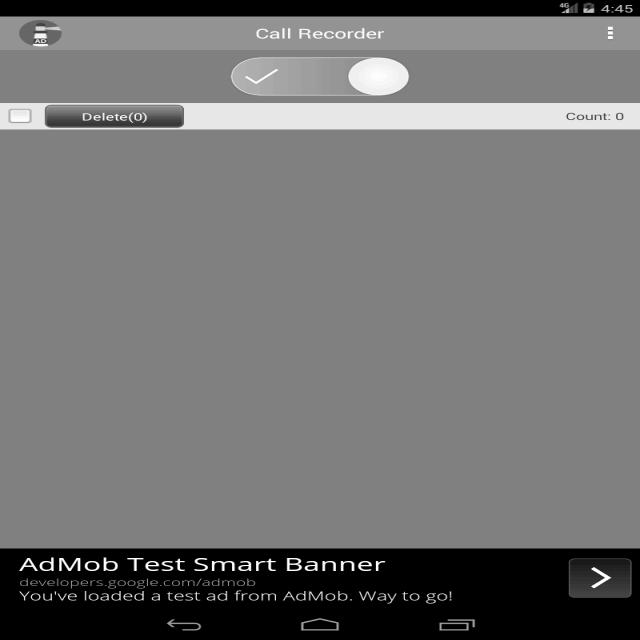Button: (42, 100, 188, 132)
CheckBox: (2, 104, 36, 126)
ImageButton: (592, 22, 628, 44)
ImageView: (14, 18, 72, 46)
Switch: (218, 52, 424, 100)
